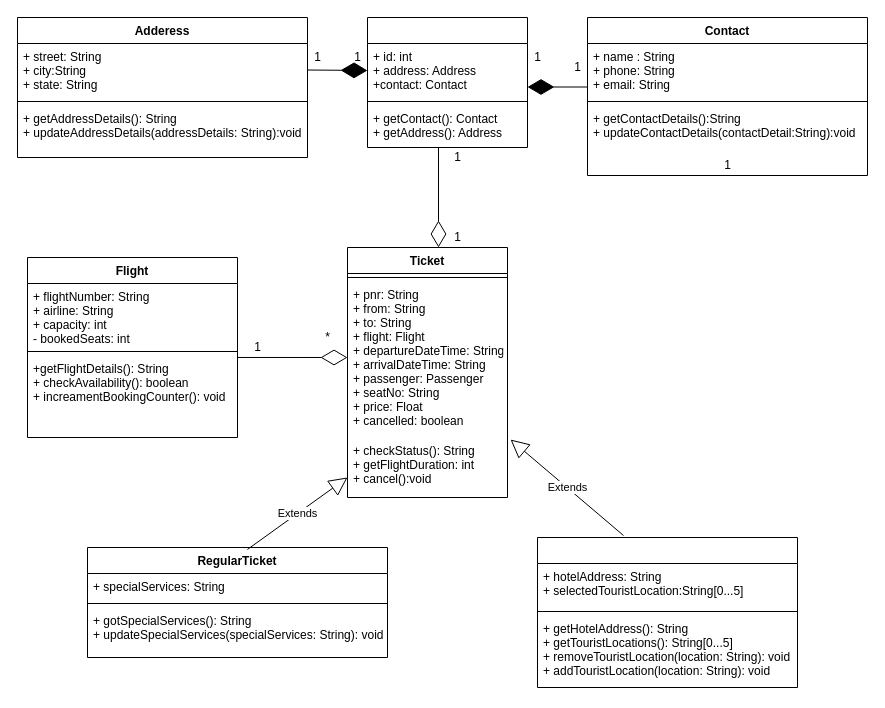
Some shapes in this 885 by 708 pixel diagram are drawn without their labels. Each missing label, with the box of its shape:
Passenger: (366, 16, 528, 148)
TouristTicket: (536, 536, 798, 688)
